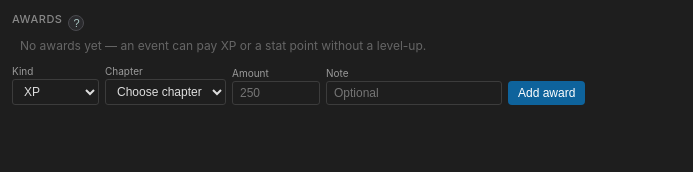
Test: the awards list › asks for a stat only when the award is a stat point
Expected: the field labelled "Award stat" is not shown
Select "Stat point" in the dropdown named "Award kind" at (56, 92), box [12,79,99,105]
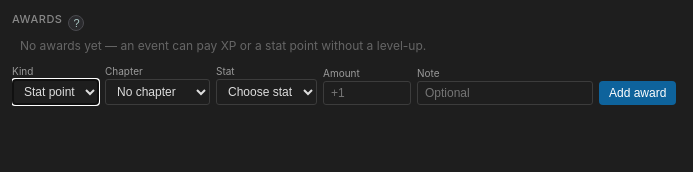
Now the dropdown named "Award stat" is shown, box [216,79,317,105]
Select "XP" in the dropdown named "Award kind" at (56, 92), box [12,79,99,105]
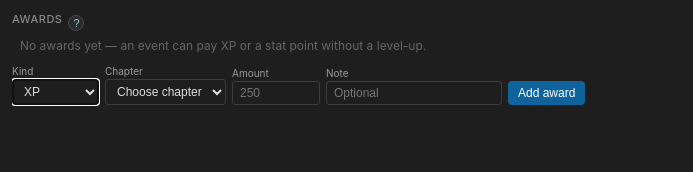
Now the dropdown labelled "Award stat" is gone
